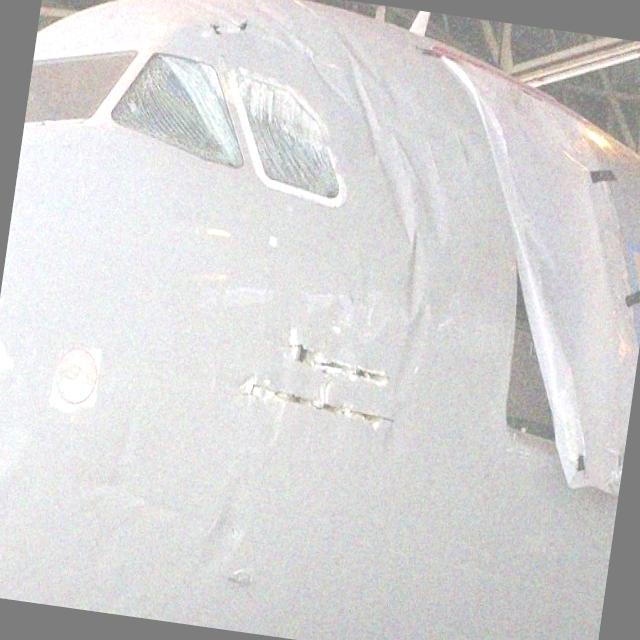crack: (243, 320, 417, 442)
